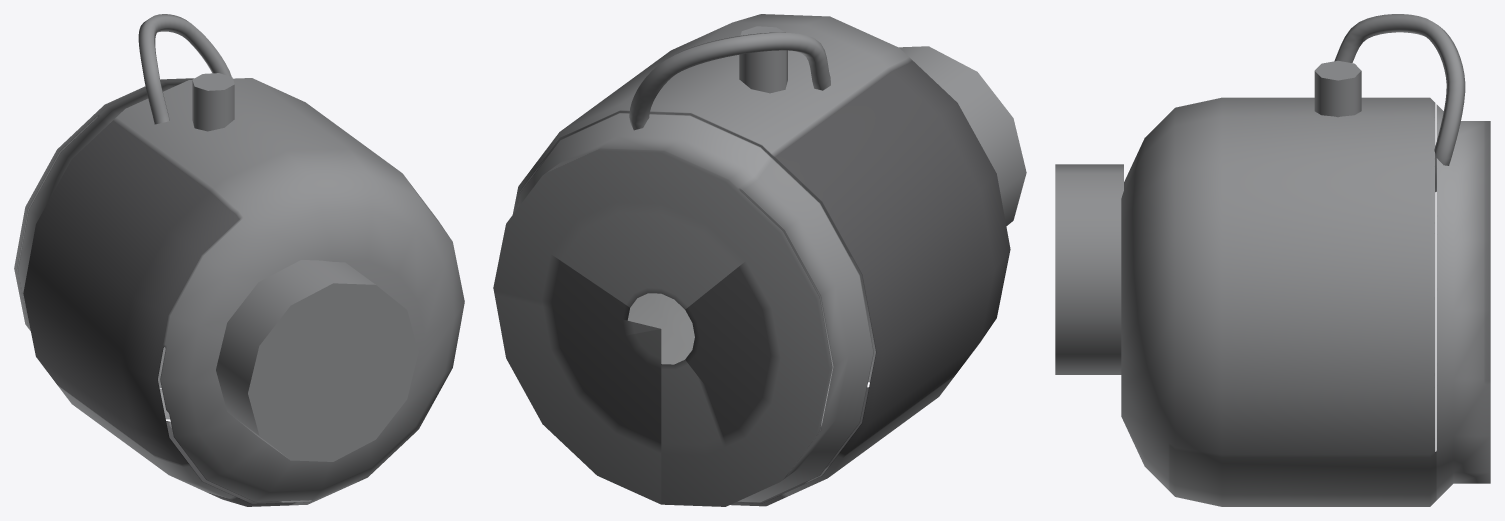
3 views of the same model, side by side, from view 1: azimuth 30°, elevation 25°; view 2: azimuth 150°, elevation 25°; view 3: azimuth 270°, elevation 25° (orthographic). The views are drawn at different scales.
Size of the model in its own units: 0.6588 by 0.793 by 0.7.
